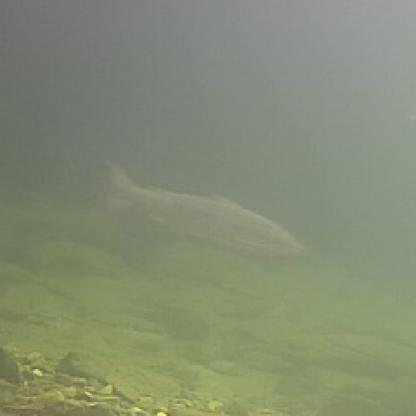salmon: (100, 156, 308, 255)
